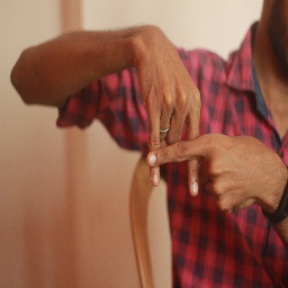H: (108, 80, 236, 224)
